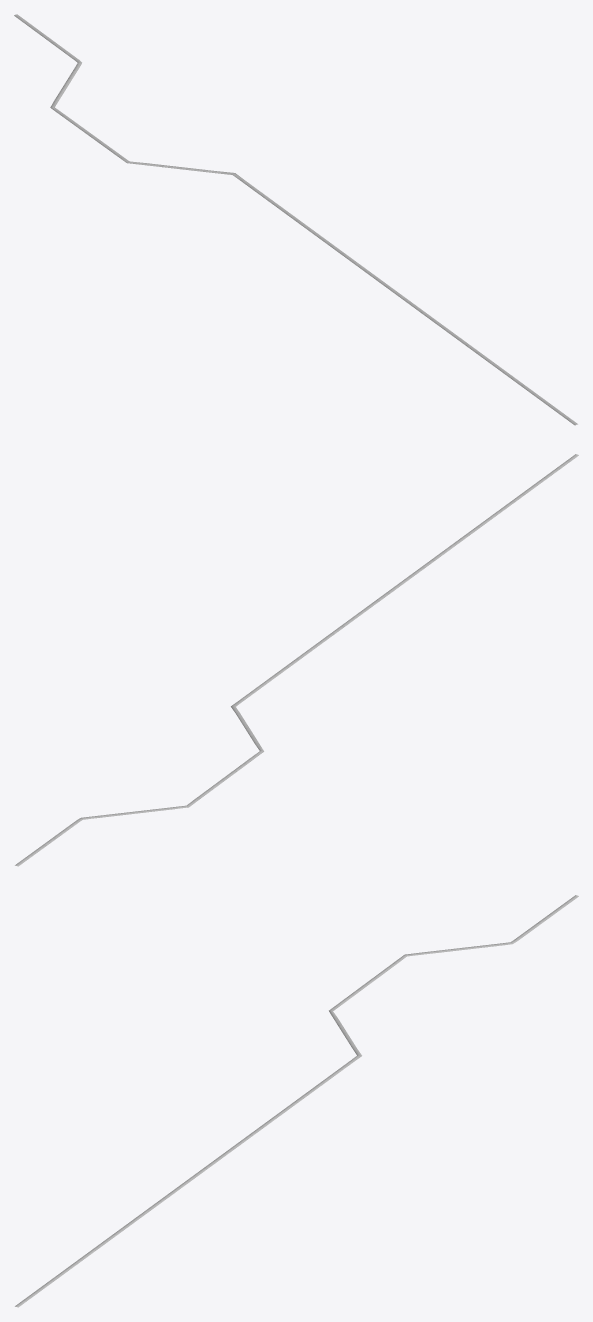
Rendered from SM_ENV_LKNVLD_Ground_Left_roadTrim.FBX.
3 renders of one model, top to bottom at view 1: azimuth 30°, elevation 25°; view 2: azimuth 150°, elevation 25°; view 3: azimuth 330°, elevation 25°, orthographic.
Parts seen in each view (by area): view 1: SM_ENV_LKNVLD_Ground_Left_roadTrim; view 2: SM_ENV_LKNVLD_Ground_Left_roadTrim; view 3: SM_ENV_LKNVLD_Ground_Left_roadTrim.
Part boxes in pixels (x1,y1,x2,y2): SM_ENV_LKNVLD_Ground_Left_roadTrim: (14, 14, 577, 425); SM_ENV_LKNVLD_Ground_Left_roadTrim: (15, 454, 578, 866); SM_ENV_LKNVLD_Ground_Left_roadTrim: (15, 895, 578, 1307).
Size of the model in its own units: 944 by 7.01 by 12743.
